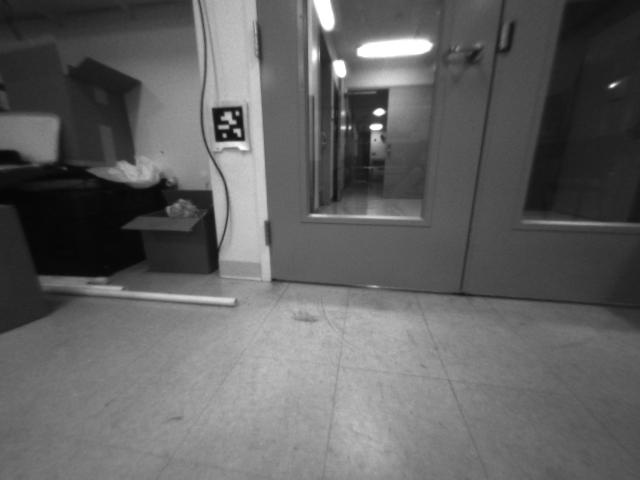door_handle: (434, 39, 485, 63)
